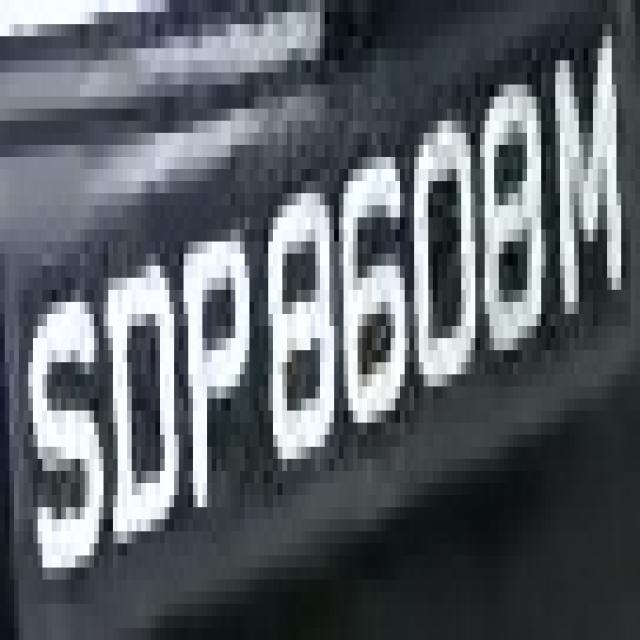0: (405, 109, 480, 422)
6: (329, 109, 405, 459)
8: (254, 169, 344, 519), (476, 36, 556, 423)
D: (94, 253, 184, 568)
M: (541, 84, 635, 314)
P: (183, 181, 259, 531)
S: (14, 254, 104, 628)
